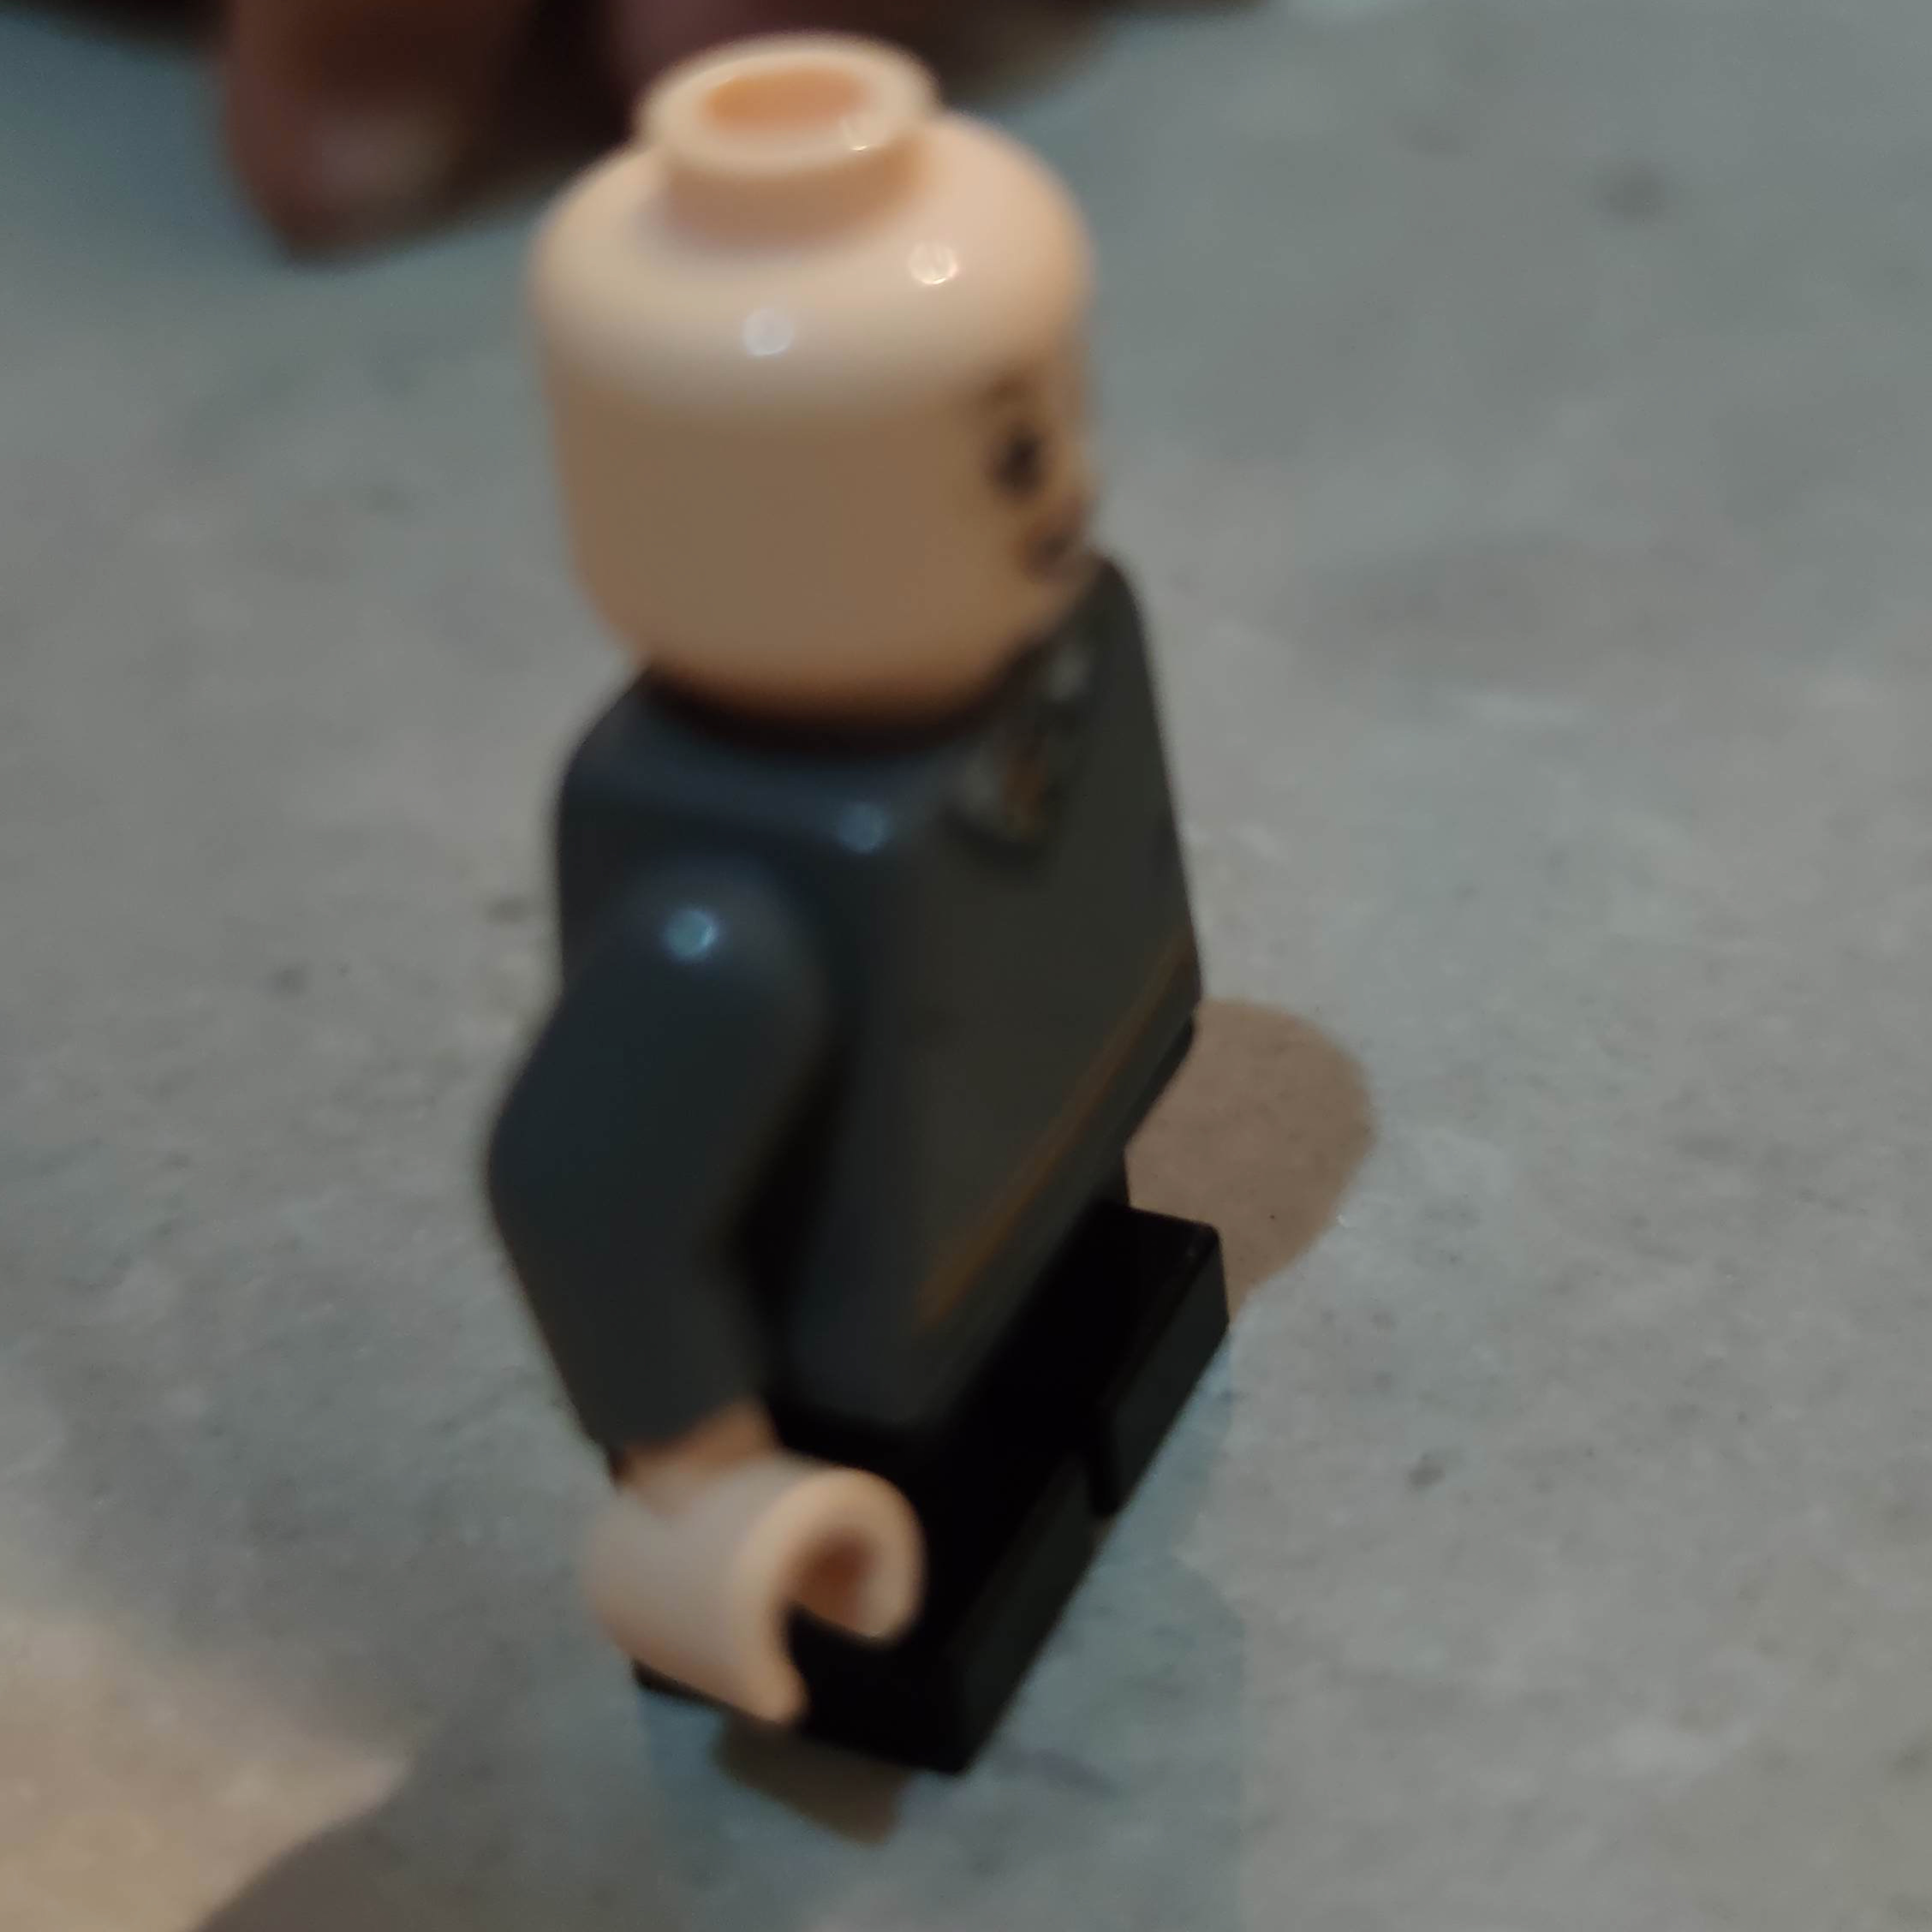lego: (483, 39, 1231, 1789)
